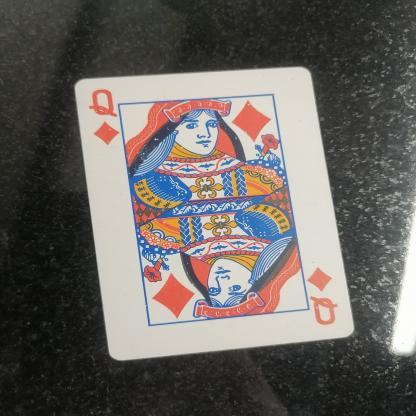QD: (307, 267, 348, 329), (86, 86, 119, 147)
